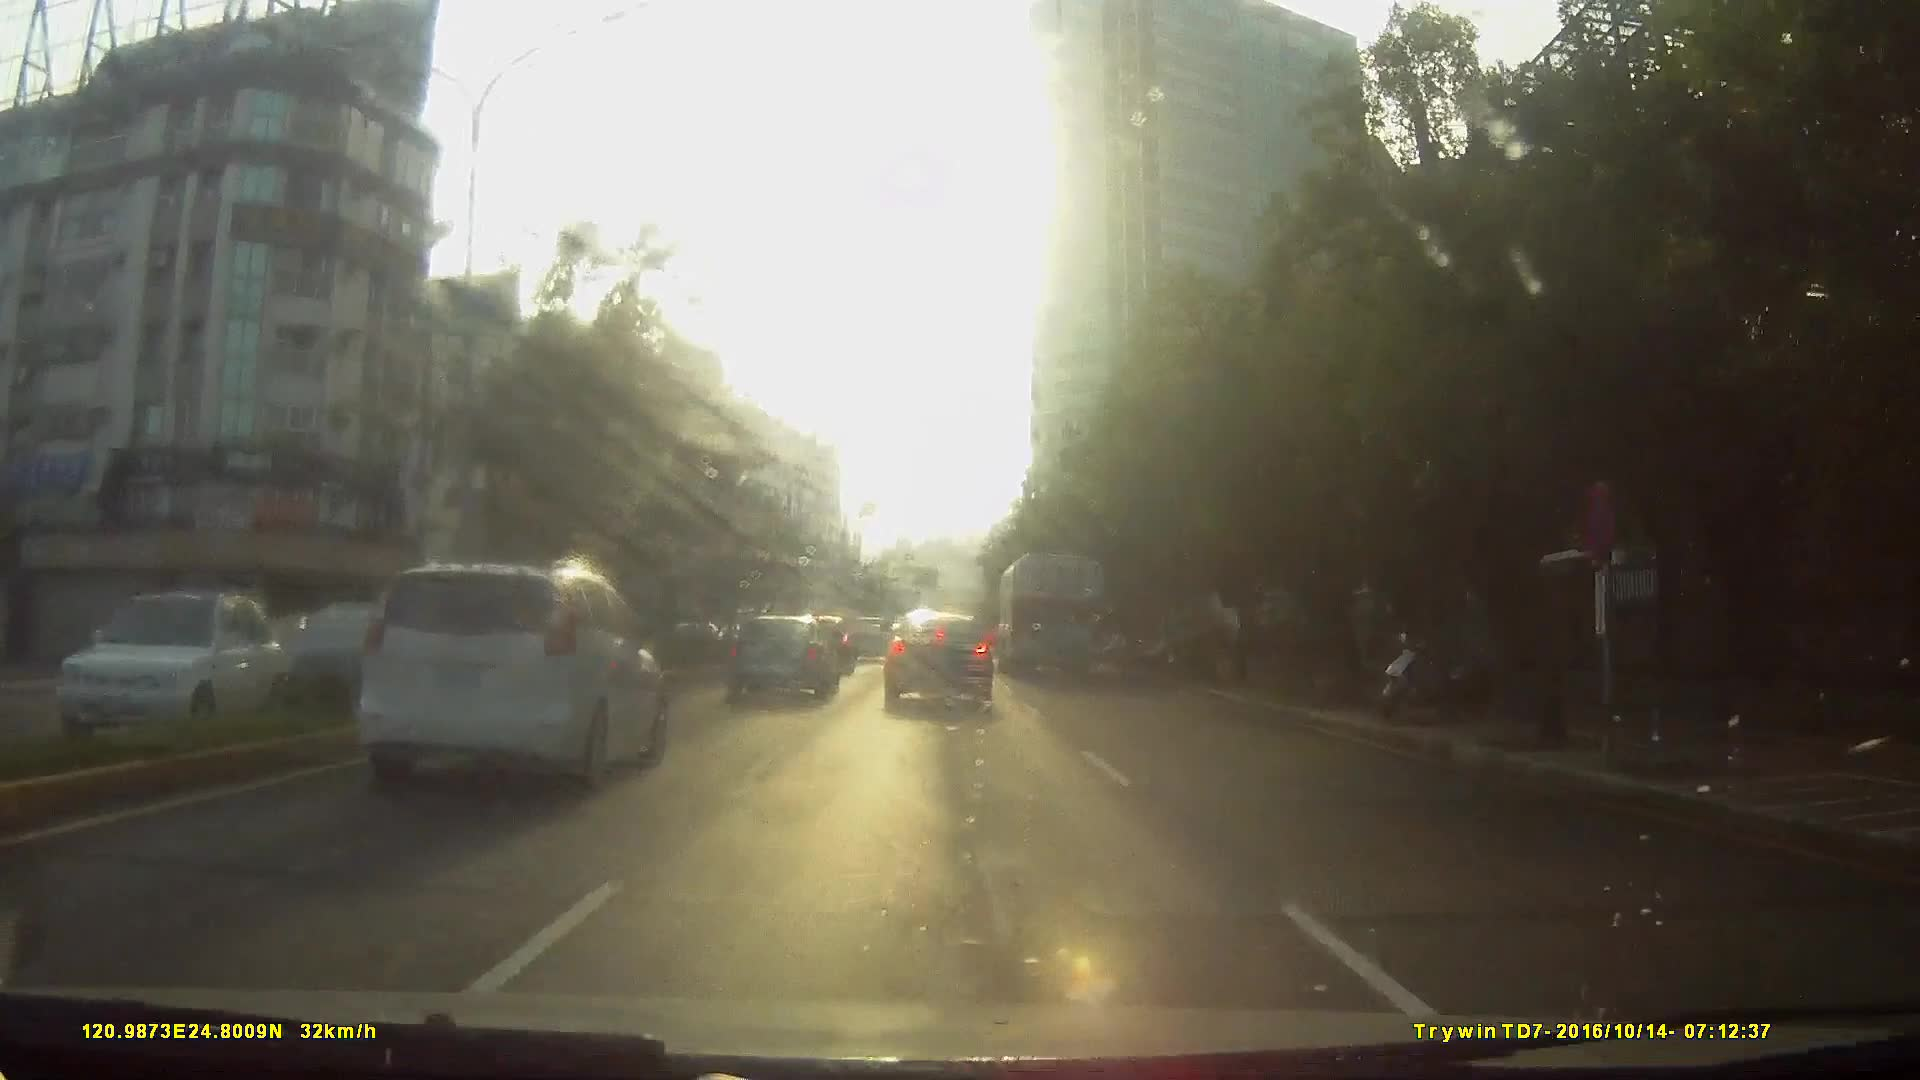vehicle: (251, 556, 684, 868), (347, 554, 666, 790), (36, 584, 284, 764), (262, 601, 425, 707), (996, 549, 1106, 680), (880, 607, 994, 709), (720, 612, 837, 702), (848, 613, 893, 662)
